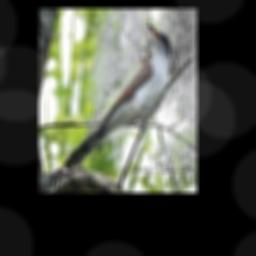Cuckoo: (64, 24, 171, 170)
